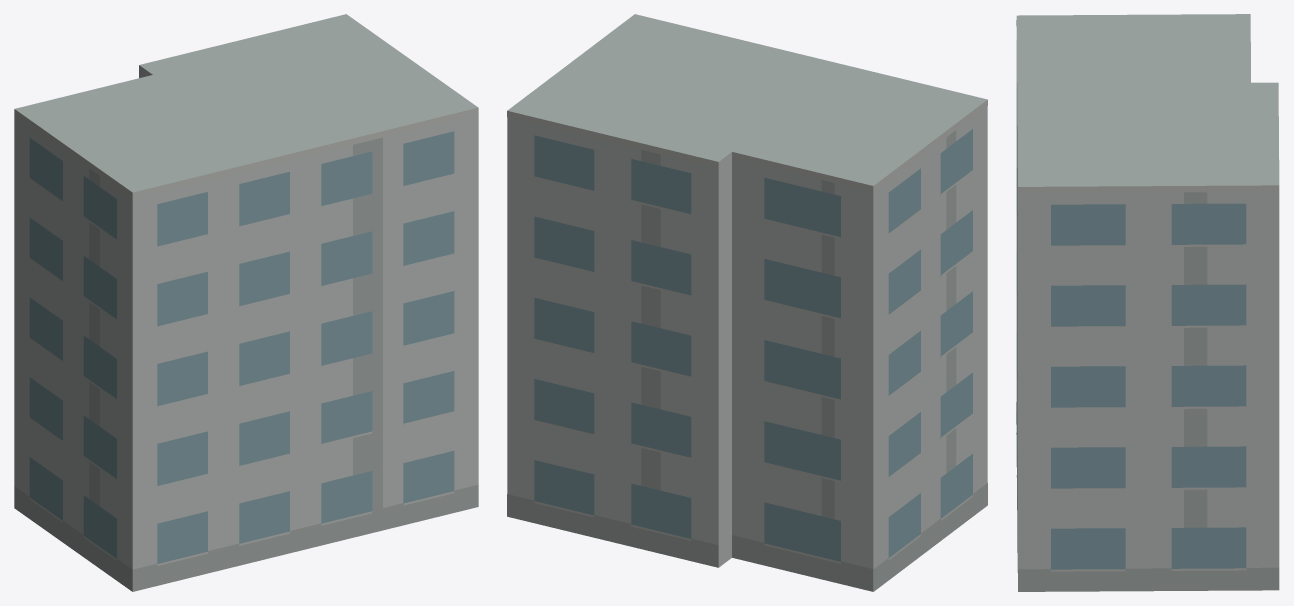
Rendered from survey-upis-32527414.glb.
3 renders of one model, left to right at view 1: azimuth 30°, elevation 25°; view 2: azimuth 150°, elevation 25°; view 3: azimuth 270°, elevation 25°, orthographic.
Visible parts, largest first — view 1: survey-upis-32527414.tmp; view 2: survey-upis-32527414.tmp; view 3: survey-upis-32527414.tmp.
Boxes of the visible parts, x1,y1,x2,y2 form: survey-upis-32527414.tmp: [14, 14, 478, 591]; survey-upis-32527414.tmp: [507, 14, 987, 591]; survey-upis-32527414.tmp: [1016, 14, 1279, 591].
Size of the model in its own units: 13.98 by 15.25 by 8.99.
